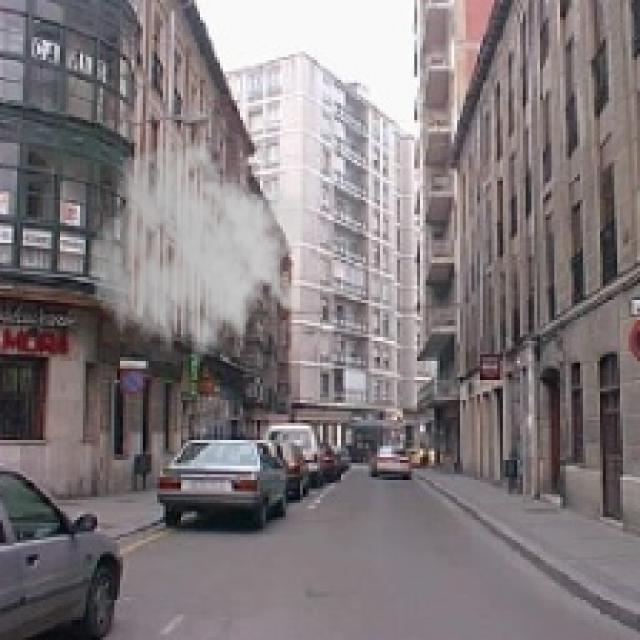Smoke: (88, 128, 312, 383)
